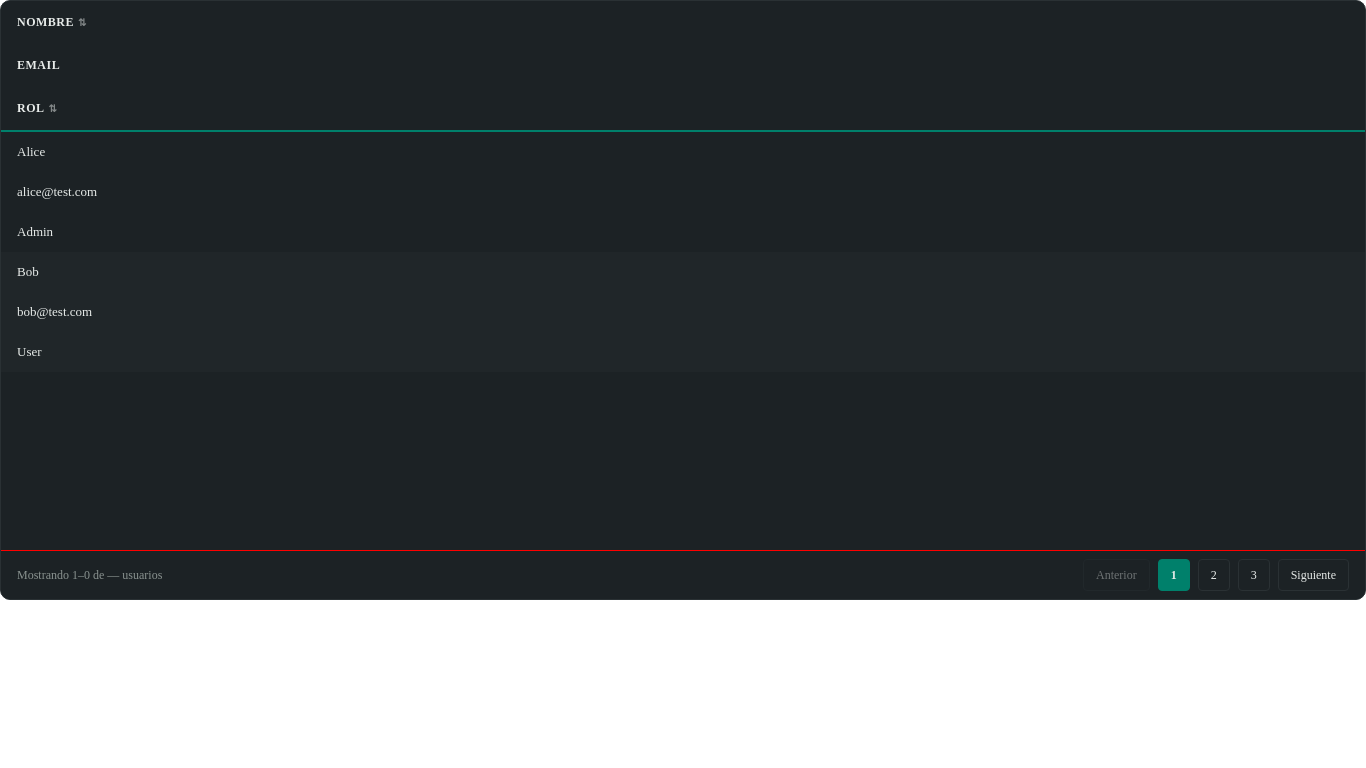
Scenario: Table › resets to page 1 when sorting
The width and height of the screenshot is (1366, 768).
Click the button "2" at (1214, 575), box [1198,559,1230,591]
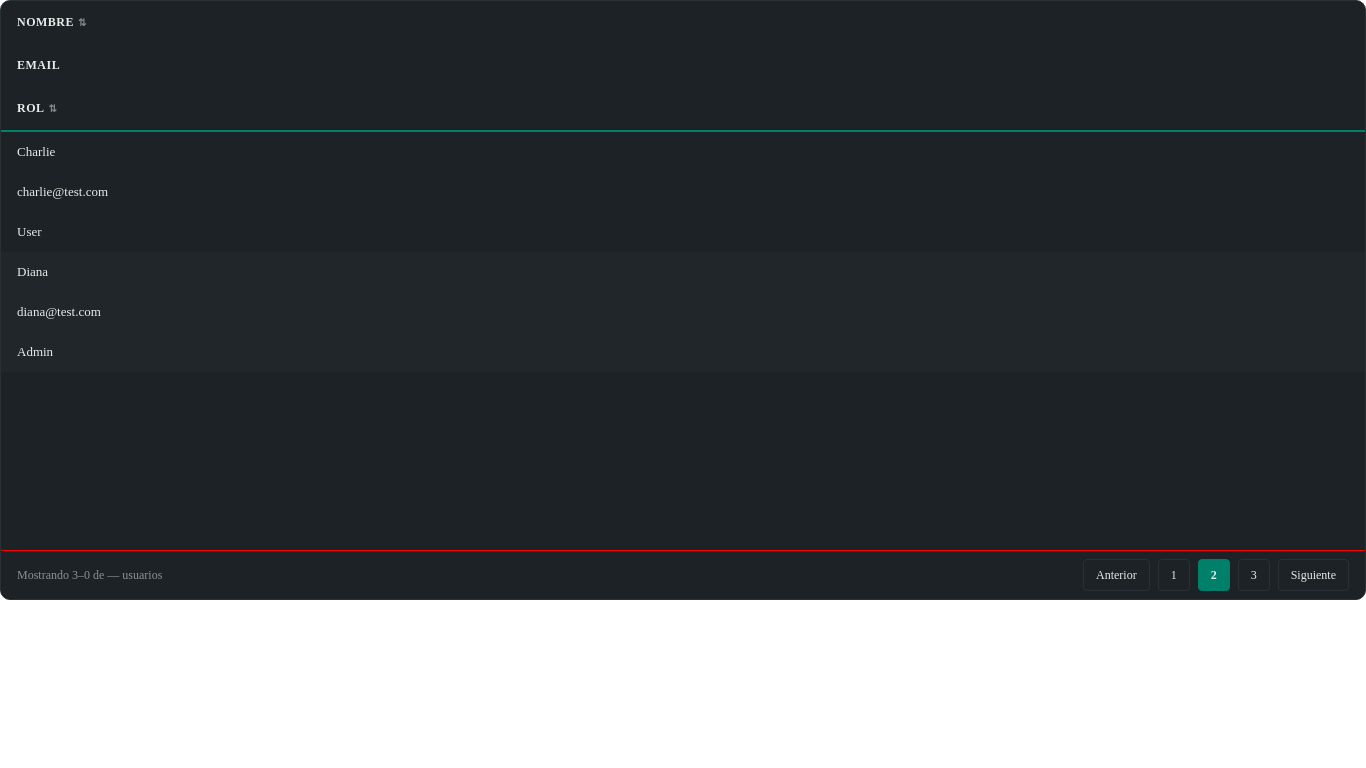
Check: the text "Charlie" is shown, box [17,144,55,159]
Click the column heading "Nombre" at (52, 22), box [17,15,87,29]
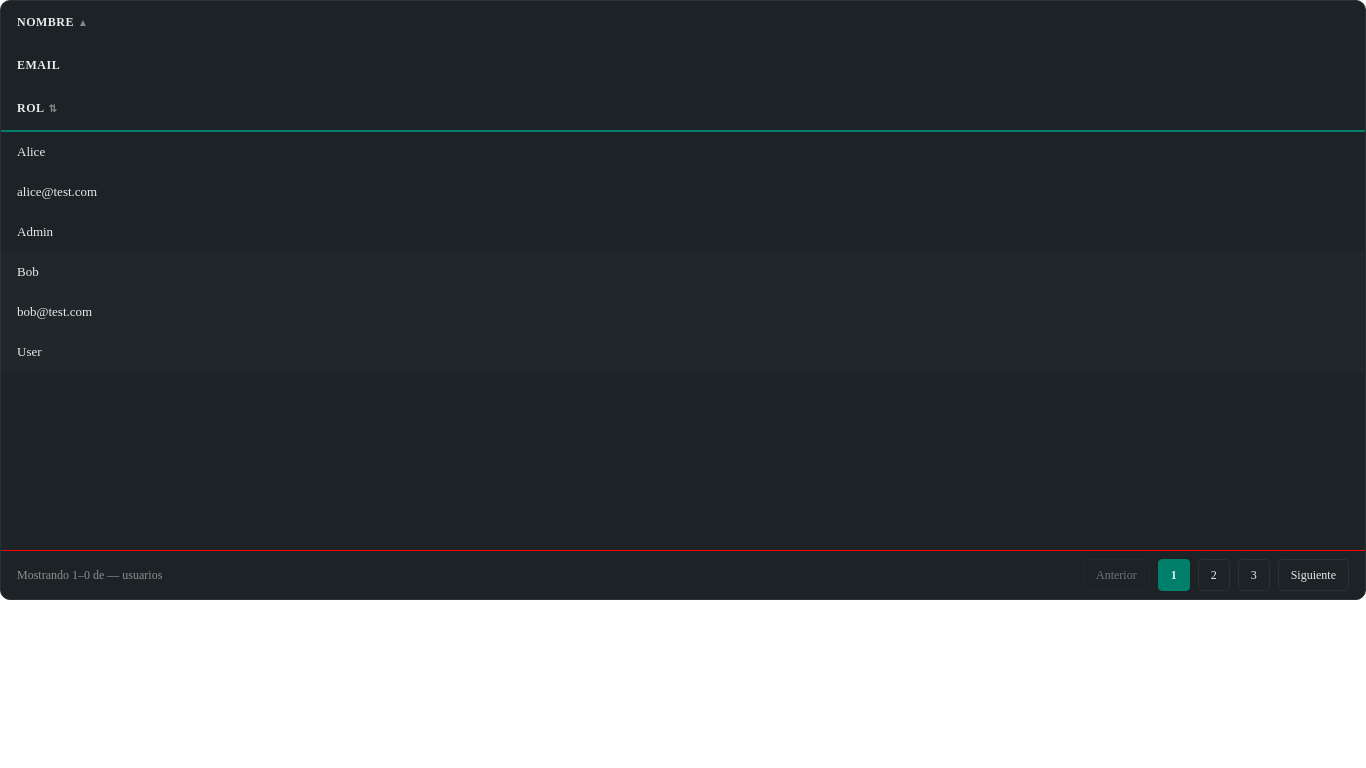
Check: the text "Alice" is shown, box [17,144,45,159]
